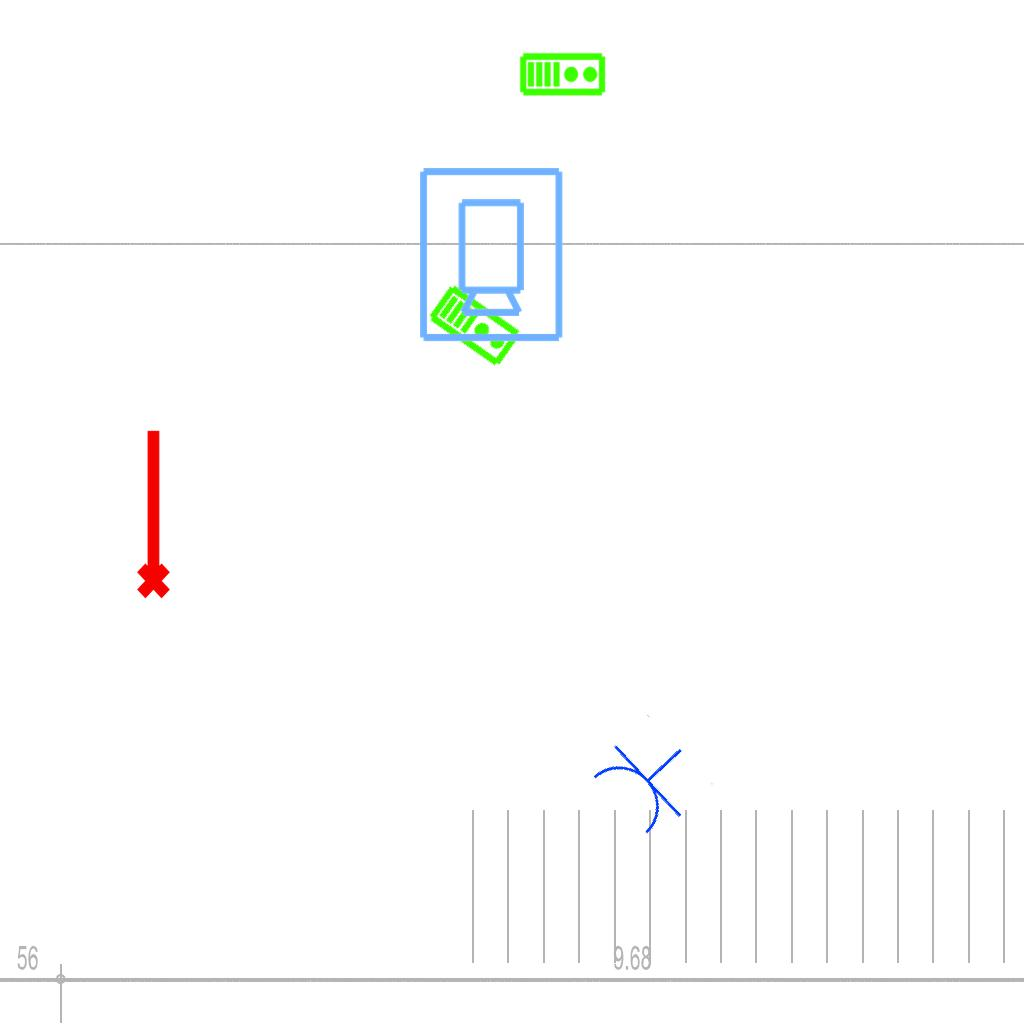ASR_Ansaugoeffnung: (128, 425, 174, 601)
Gegensprechanlage_mit_Video: (425, 280, 526, 370), (519, 50, 607, 97)
KFO_Kamera_mit_Festobjektiv: (413, 163, 567, 345)
Schukosteckdose_einfach: (583, 712, 715, 845)
